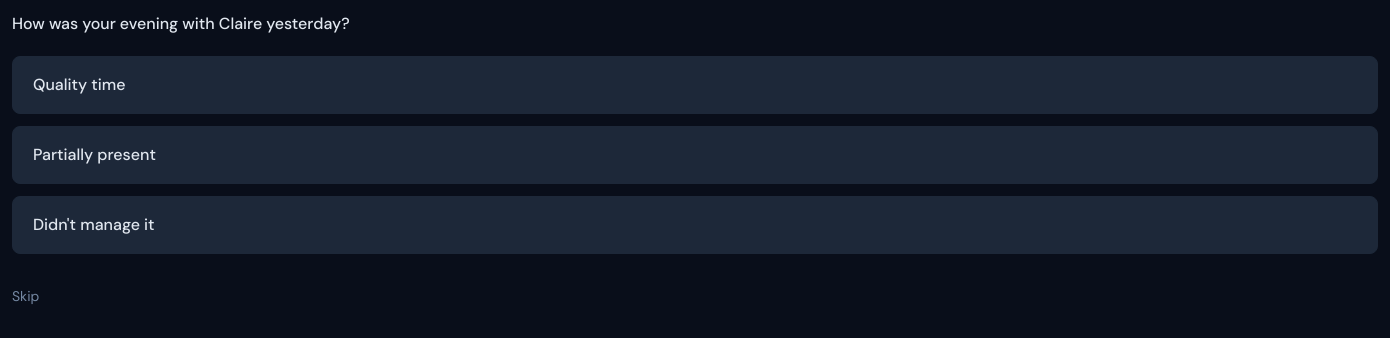
ClaireCheckin › shows blocker input when Partially present tapped
Click the button "Partially present" at (94, 154), box x1=12 y1=126 x2=1378 y2=184
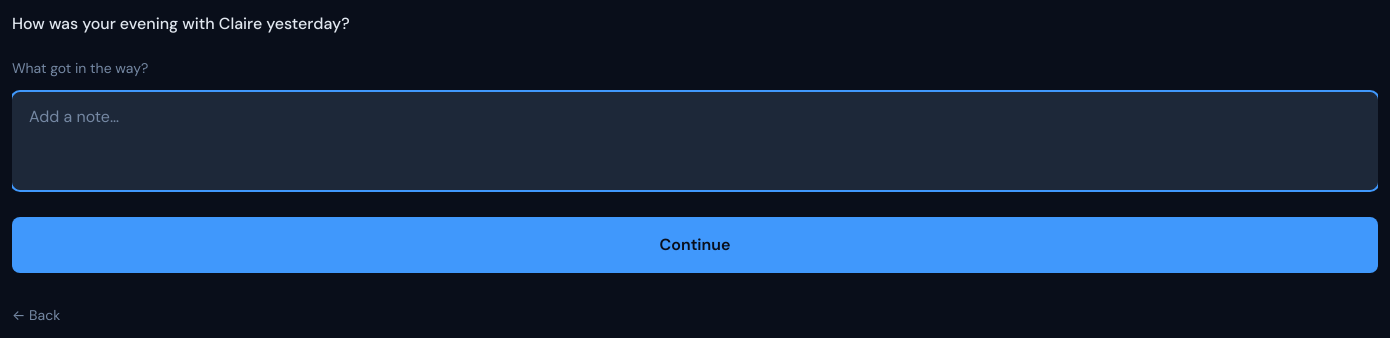
expect the text box labelled "What got in the way?" is shown: met, box x1=12 y1=92 x2=1378 y2=190
